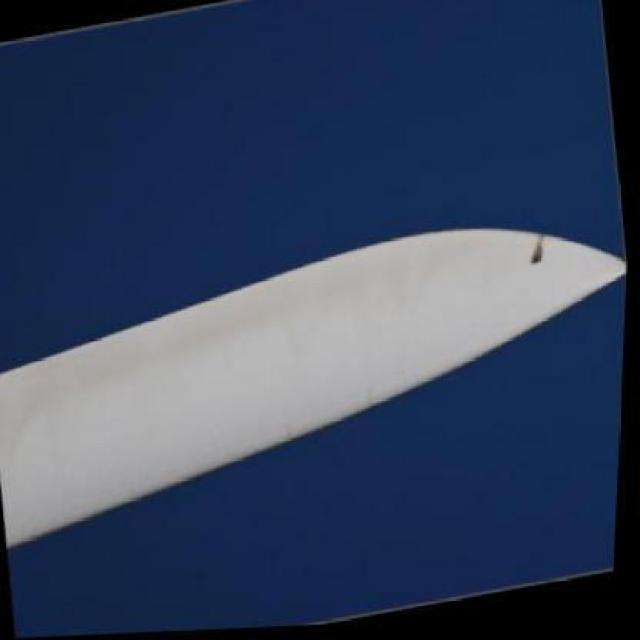Burn Mark: (527, 234, 551, 268)
